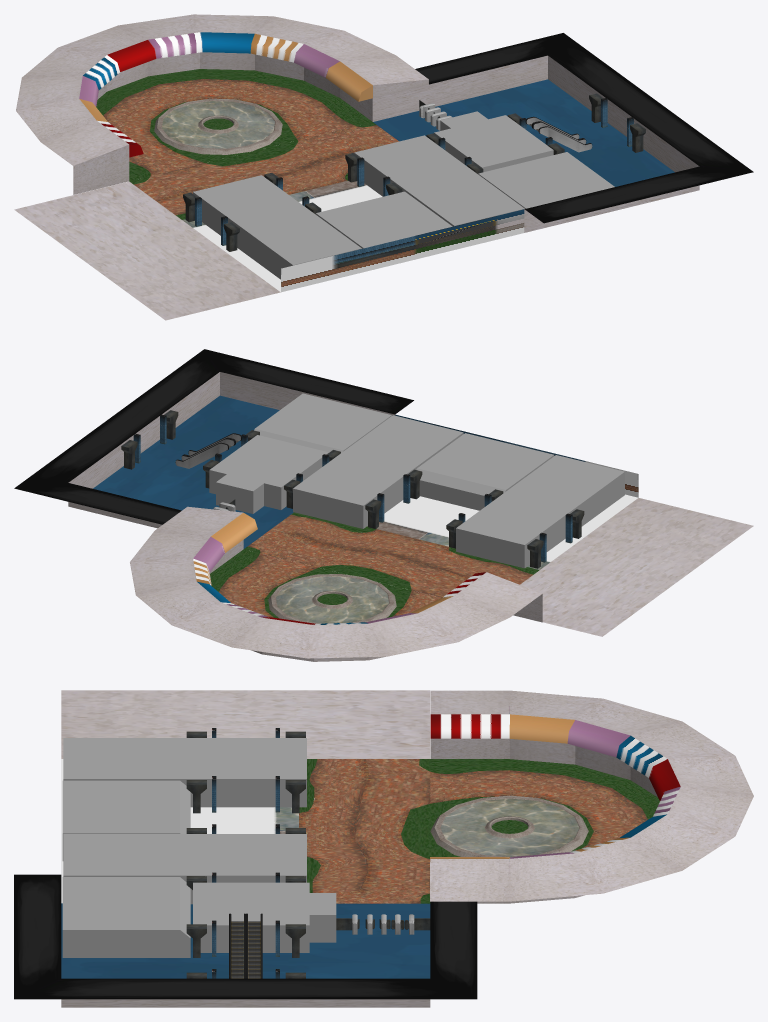
The model's file is mod_ground.fbx.
3 views of the same model, one above another, from view 1: azimuth 30°, elevation 25°; view 2: azimuth 150°, elevation 25°; view 3: azimuth 270°, elevation 25° (orthographic). The views are drawn at different scales.
Parts seen in each view (by area): view 1: polySurface1305, polySurface1304, polySurface1288, polySurface1287, polySurface1281, polySurface1283, polySurface1282, pPlane1, polySurface1318, polySurface1289; view 2: polySurface1305, polySurface1304, polySurface1288, polySurface1287, polySurface1283, polySurface1281, polySurface1282, pPlane1, polySurface1318, polySurface1290; view 3: polySurface1305, polySurface1304, polySurface1288, polySurface1287, polySurface1282, polySurface1281, polySurface1283, pPlane1, polySurface1318, polySurface1289, polySurface1290.
Boxes of the visible parts, bbox=[...] form: polySurface1305: bbox=[14, 14, 428, 320]; polySurface1304: bbox=[182, 33, 753, 292]; polySurface1288: bbox=[193, 175, 361, 279]; polySurface1287: bbox=[354, 135, 524, 226]; polySurface1281: bbox=[434, 111, 553, 172]; polySurface1283: bbox=[315, 191, 452, 248]; polySurface1282: bbox=[478, 152, 614, 208]; pPlane1: bbox=[162, 101, 274, 148]; polySurface1318: bbox=[195, 98, 633, 245]; polySurface1289: bbox=[532, 122, 592, 152]; polySurface1305: bbox=[130, 498, 753, 661]; polySurface1304: bbox=[14, 349, 638, 569]; polySurface1288: bbox=[456, 455, 624, 568]; polySurface1287: bbox=[293, 415, 463, 528]; polySurface1283: bbox=[416, 433, 554, 510]; polySurface1281: bbox=[209, 435, 328, 513]; polySurface1282: bbox=[254, 393, 391, 452]; pPlane1: bbox=[275, 576, 388, 623]; polySurface1318: bbox=[133, 414, 572, 562]; polySurface1290: bbox=[175, 438, 234, 468]; polySurface1305: bbox=[61, 690, 753, 903]; polySurface1304: bbox=[14, 759, 477, 1007]; polySurface1288: bbox=[63, 738, 306, 807]; polySurface1287: bbox=[63, 834, 306, 904]; polySurface1282: bbox=[62, 877, 190, 957]; polySurface1281: bbox=[193, 882, 336, 952]; polySurface1283: bbox=[62, 780, 190, 860]; pPlane1: bbox=[440, 798, 579, 856]; polySurface1318: bbox=[212, 728, 279, 978]; polySurface1289: bbox=[229, 913, 245, 978]; polySurface1290: bbox=[246, 913, 262, 978].
Size of the model in its own units: 173 by 10.9 by 160.
3 materials, 2 textured.
